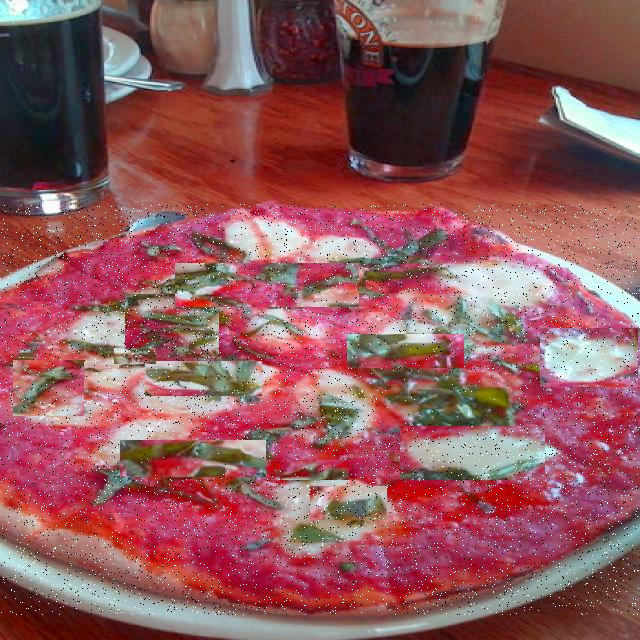Basil: (378, 372, 518, 432), (175, 263, 359, 307), (125, 294, 219, 358), (120, 440, 266, 477), (145, 361, 262, 396), (347, 334, 464, 368), (13, 360, 84, 416), (297, 392, 359, 446), (310, 486, 387, 520), (281, 460, 349, 480), (114, 348, 156, 364)
Cheese: (400, 426, 545, 480), (540, 328, 638, 387)
Pizza: (0, 204, 640, 615)
